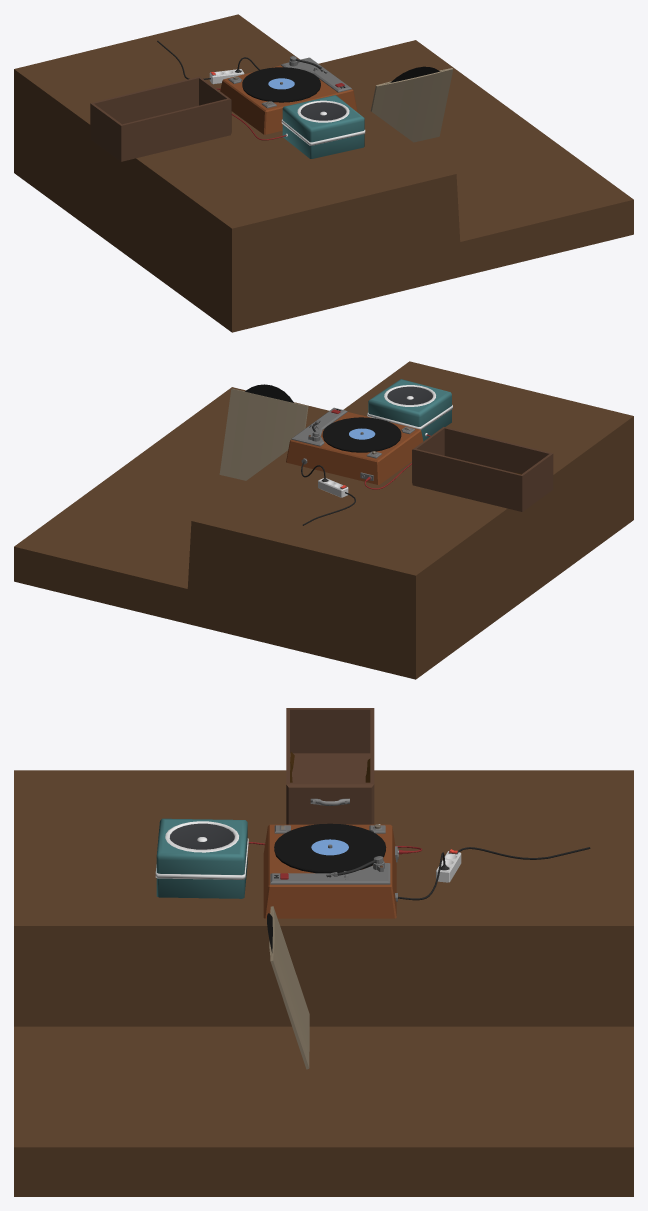
The model's file is musikplayer.fbx.
3 renders of one model, top to bottom at view 1: azimuth 30°, elevation 25°; view 2: azimuth 150°, elevation 25°; view 3: azimuth 270°, elevation 25°, orthographic. The views are drawn at different scales.
Visible parts, largest first — view 1: Table, Drawer, RecordPackage, Speaker, PlayerBody, RecordOnPlayer; view 2: Table, Drawer, RecordPackage, PlayerBody, Speaker, RecordOnPlayer, Record; view 3: Table, Drawer, PlayerBody, Speaker, RecordOnPlayer, RecordPackage.
Boxes of the visible parts, x1,y1,x2,y2 form: Table: (14, 14, 633, 332); Drawer: (90, 76, 231, 161); RecordPackage: (370, 68, 453, 142); Speaker: (281, 95, 365, 158); PlayerBody: (220, 57, 357, 134); RecordOnPlayer: (242, 67, 320, 100); Table: (14, 361, 633, 679); Drawer: (412, 427, 553, 511); RecordPackage: (219, 388, 308, 480); PlayerBody: (286, 407, 423, 484); Speaker: (367, 379, 452, 441); RecordOnPlayer: (322, 417, 401, 450); Record: (245, 384, 293, 402); Table: (14, 770, 633, 1196); Drawer: (286, 708, 374, 824); PlayerBody: (263, 824, 398, 918); Speaker: (155, 818, 248, 898); RecordOnPlayer: (274, 823, 386, 870); RecordPackage: (269, 906, 309, 1069).
Size of the model in its own units: 1220 by 392 by 1105.
